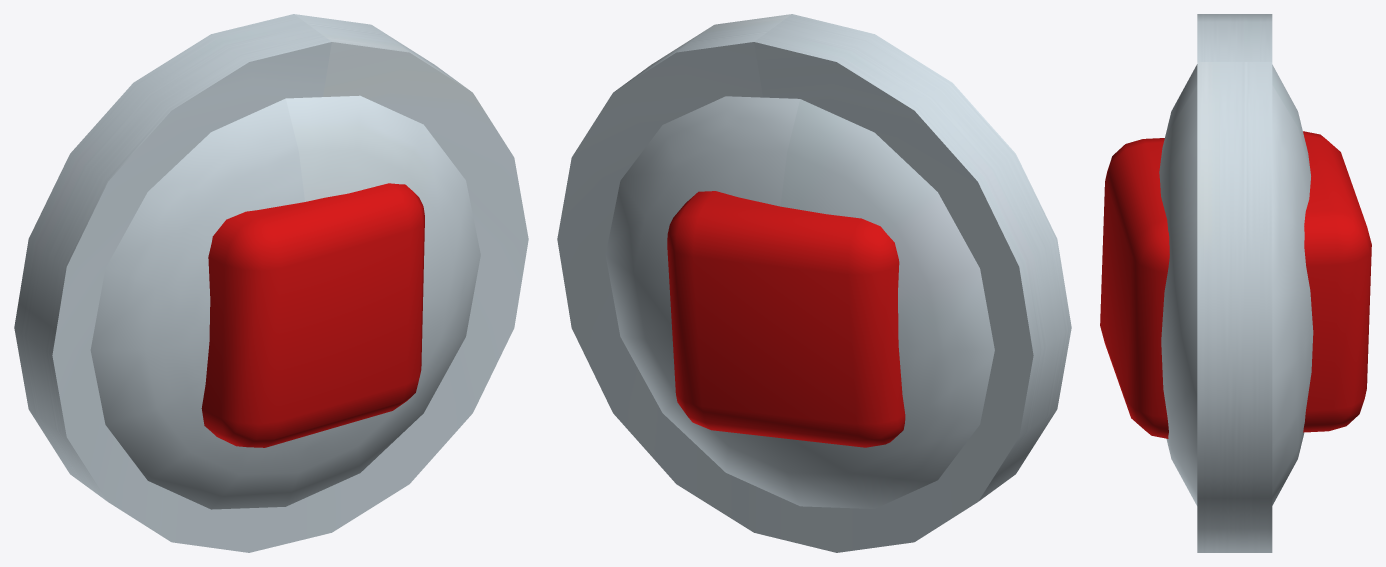
Rendered from coin2.FBX.
3 renders of one model, left to right at view 1: azimuth 30°, elevation 25°; view 2: azimuth 150°, elevation 25°; view 3: azimuth 270°, elevation 25°, orthographic.
Parts seen in each view (by area): view 1: Coin; view 2: Coin; view 3: Coin.
Part boxes in pixels (left/top/right/bottom): Coin: left=14, top=14, right=528, bottom=552; Coin: left=557, top=14, right=1071, bottom=552; Coin: left=1100, top=14, right=1371, bottom=552.
Bounding box in the file's own units: 91.62 × 46.03 × 90.23.
